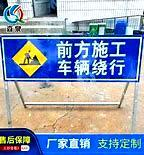sign: (2, 34, 139, 82)
